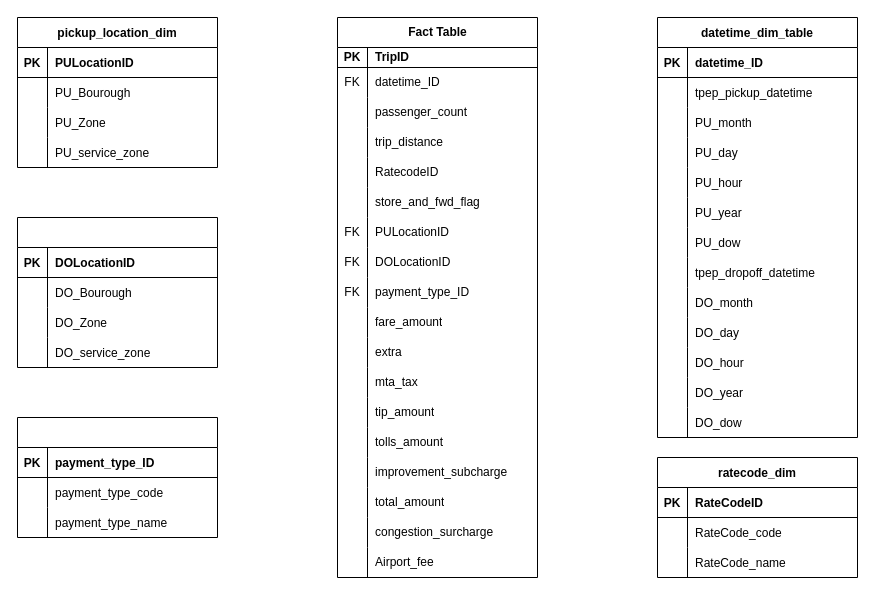
Some shapes in this 875 by 595 pixel diagram are drawn without their labels. Here are the shapes that lost their labels. From the top down, the box of each, then its label:
(16, 216, 218, 368): dropoff_location_dim
(16, 416, 218, 538): payment_type_dim
